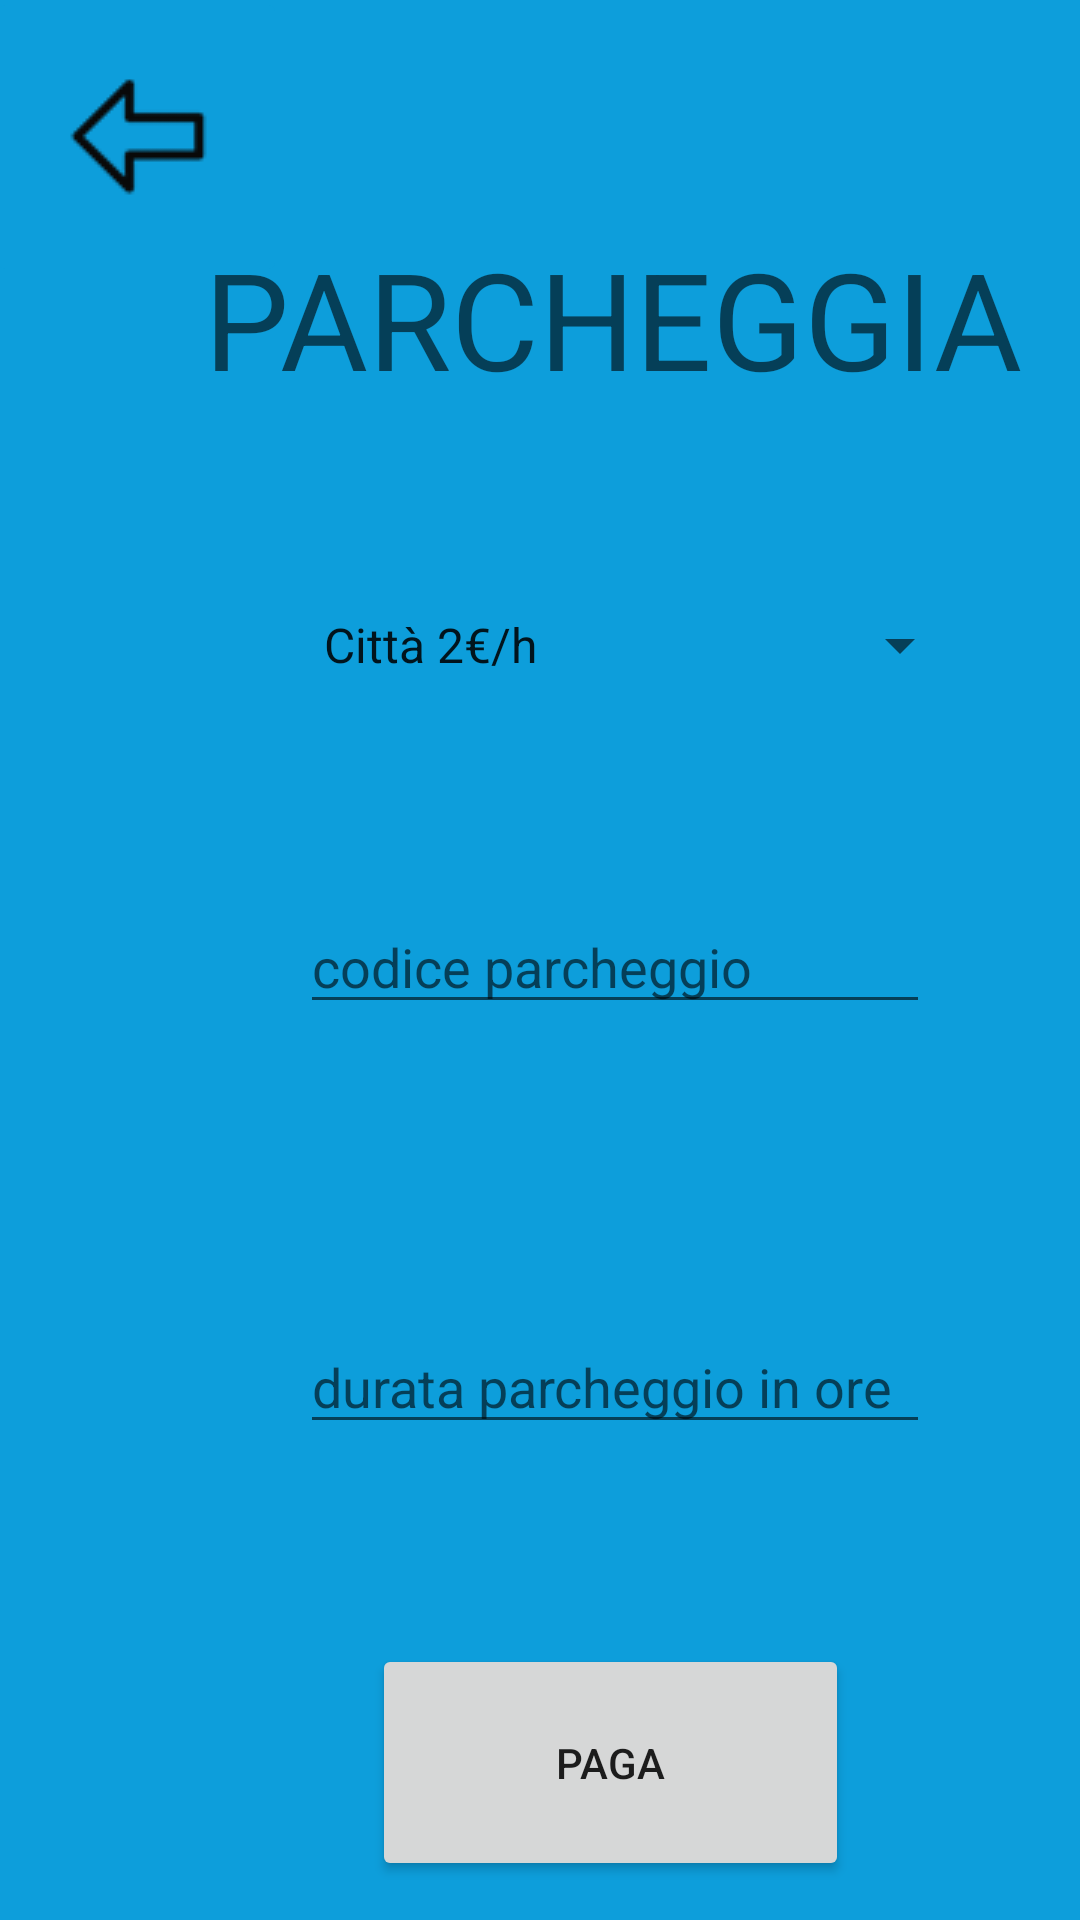

Icon bounding boxes for this 1080x1920 phone screenshot, format (x1, y1, x2, y2):
freccia: (70, 79, 206, 195)
